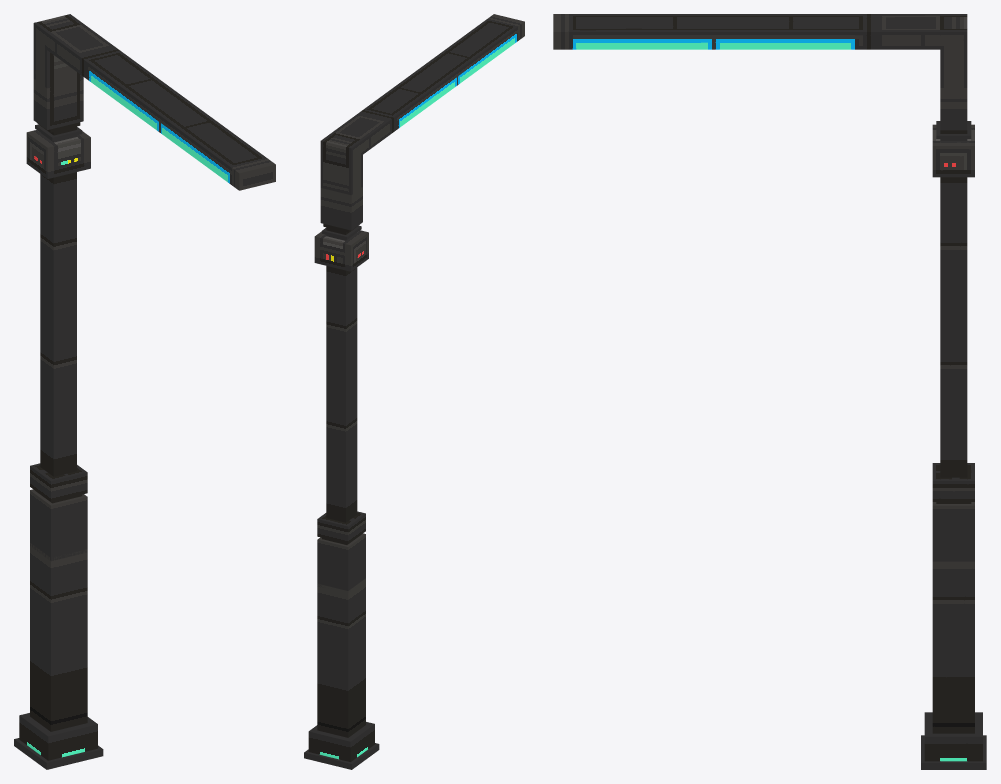
Rendered from 灯柱a.gltf.
3 renders of one model, left to right at view 1: azimuth 30°, elevation 25°; view 2: azimuth 150°, elevation 25°; view 3: azimuth 270°, elevation 25°, orthographic. The views are drawn at different scales.
Visible parts, largest first — view 1: Group; view 2: Group; view 3: Group.
Boxes of the visible parts, x1,y1,x2,y2 form: Group: (14, 14, 275, 769); Group: (304, 14, 524, 769); Group: (553, 14, 986, 769).
Size of the model in its own units: 17 by 209 by 112.
Materials: 1 (1 with a texture image).
